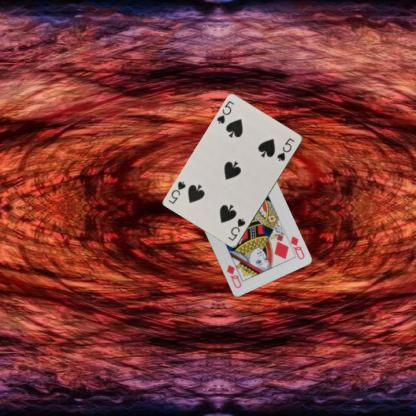5s: (214, 98, 236, 126), (225, 216, 247, 242)
Qd: (284, 233, 306, 260)
